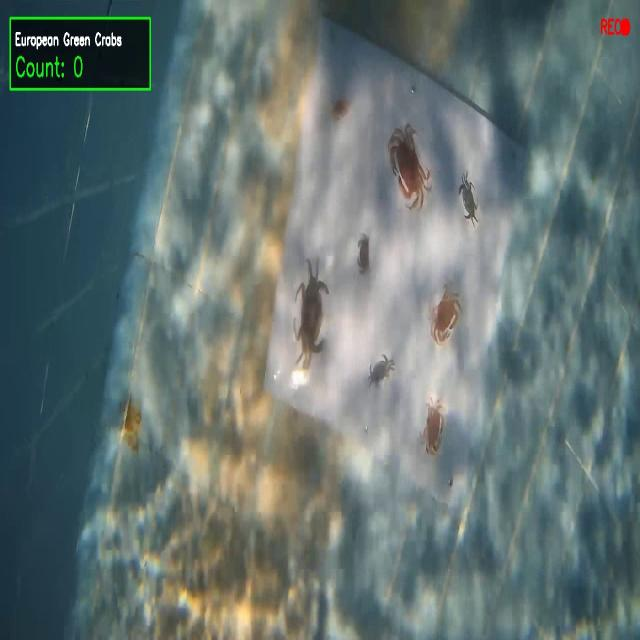European_Green_Crab: (292, 259, 331, 373), (455, 163, 485, 233), (365, 347, 397, 393)
